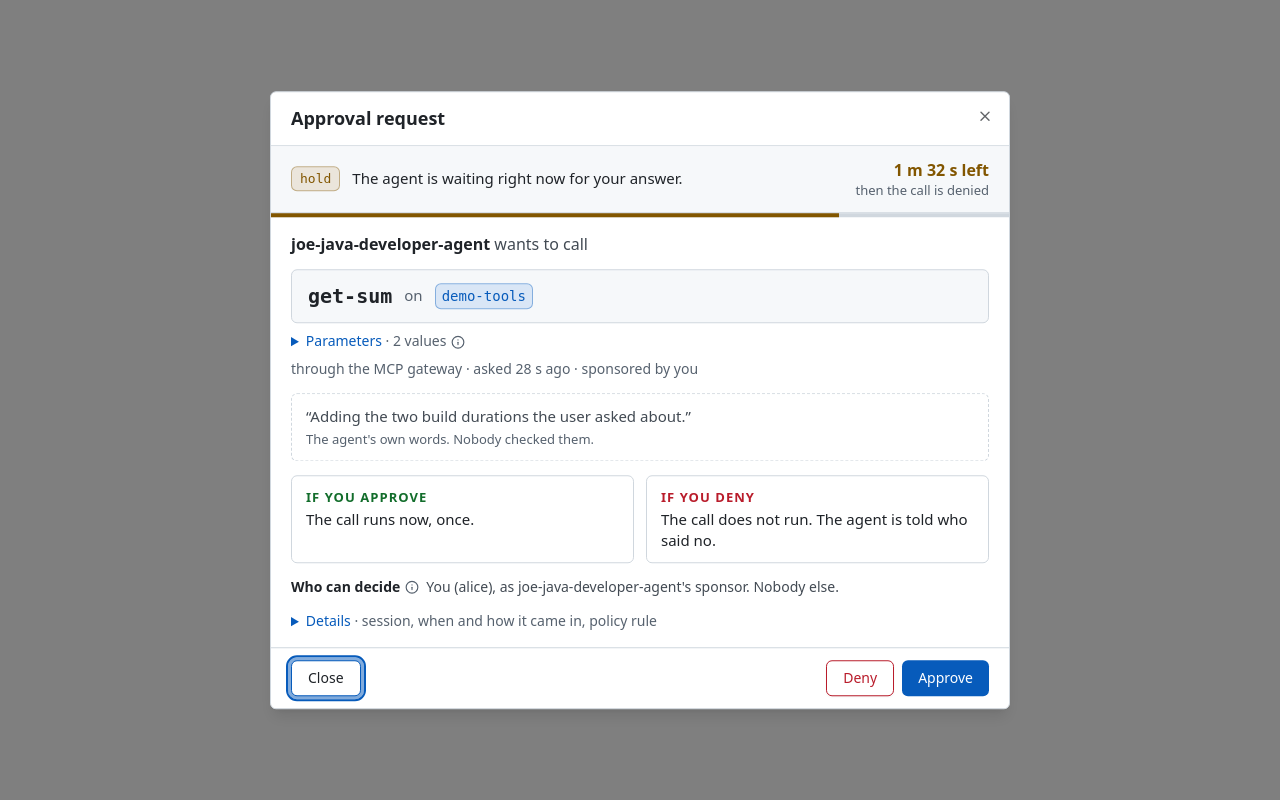
Test case: the request dialog › opens the parameters on a click, as a table with the JSON and the hash one more click away
Click the heading "Parameters · 2 values" at coordinates (386, 341), box [306,331,466,350]
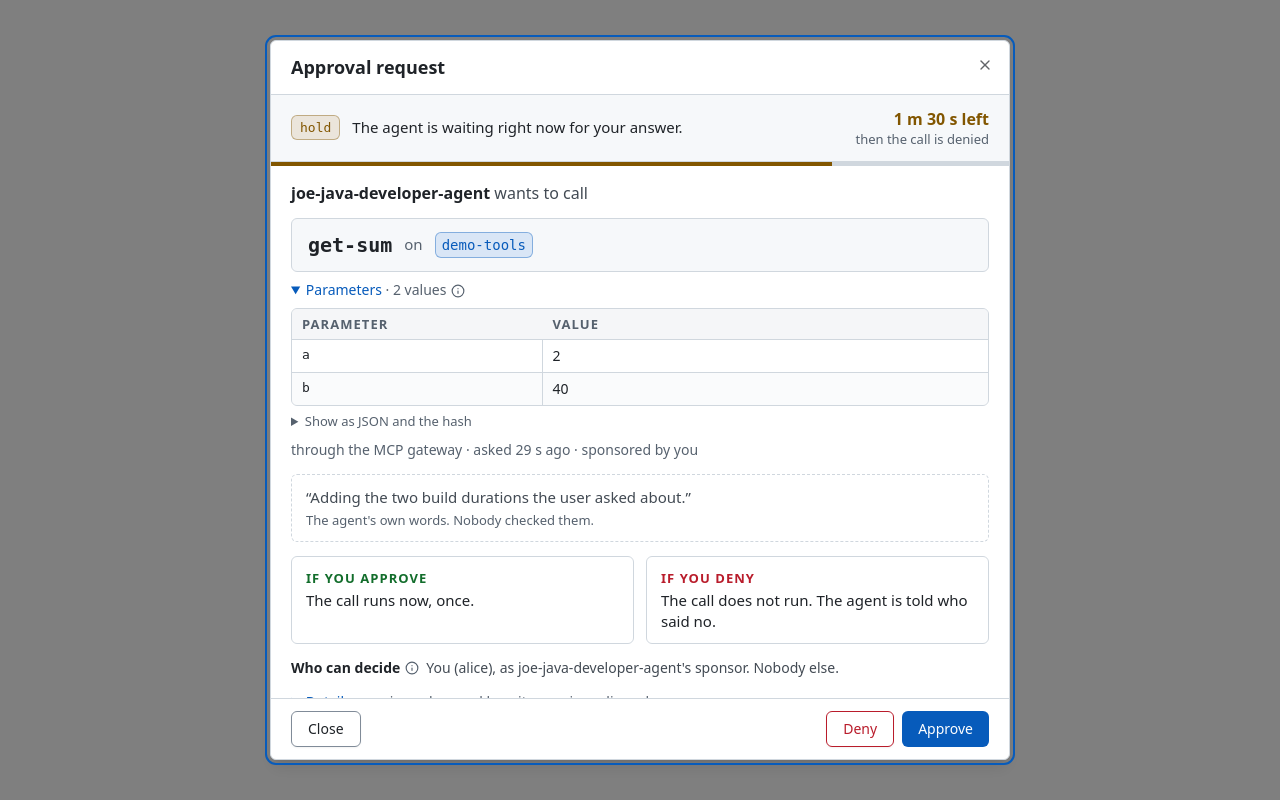
Expected: the text "40" is shown, [542,373,988,405]
